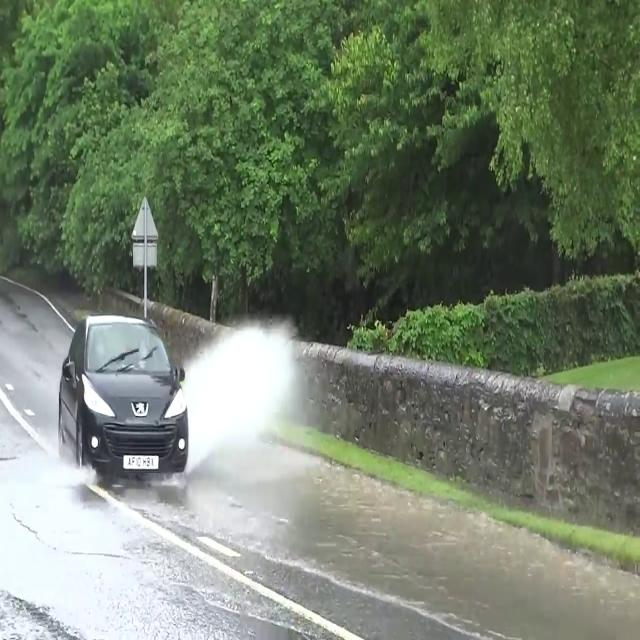license-plate-annotation: (125, 452, 156, 474)
